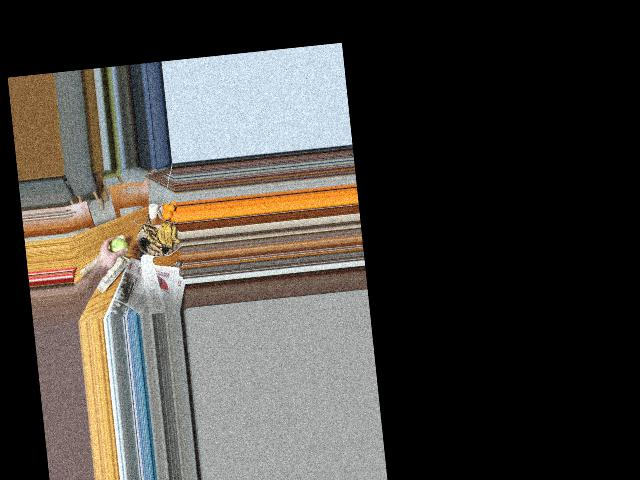apple: (107, 237, 128, 258)
